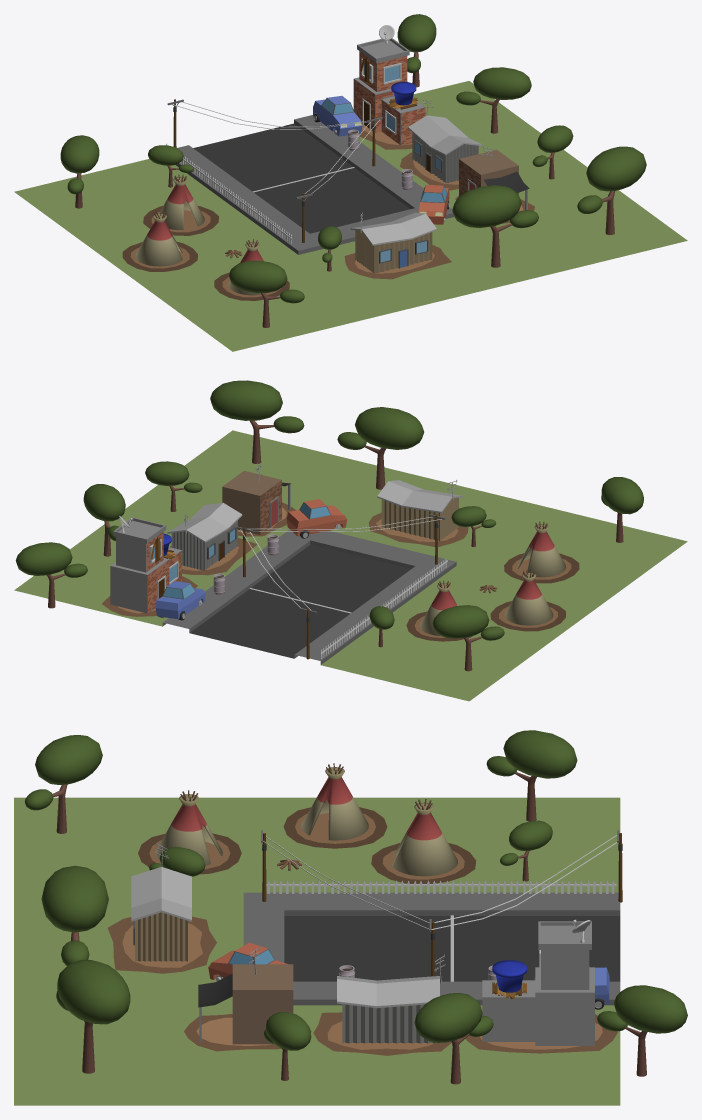
Rendered from Scenario Juego.fbx.
The picture shows the model from 3 angles, top to bottom: view 1: azimuth 30°, elevation 25°; view 2: azimuth 150°, elevation 25°; view 3: azimuth 270°, elevation 25°; orthographic projection. The views are drawn at different scales.
Parts seen in each view (by area): view 1: Plane, Cube, Cube.004, Cylinder.007, Cube.003, Cylinder.005, Plane.006, Cube.011, Plane.007, Cylinder.003, Cylinder.006, Cylinder.002 (+11 smaller); view 2: Plane, Cube, Cube.004, Cube.003, Cylinder.005, Cylinder.007, Cube.011, Plane.006, Plane.005, Cylinder.018, Cylinder.002, Cube.001 (+10 smaller); view 3: Plane, Cube, Cube.003, Cube.004, Cube.011, Plane.006, Plane.007, Cylinder.005, Cylinder.007, Cylinder.002, Cylinder.018, Plane.005 (+12 smaller).
Part boxes in pixels (bbox=[...]): Plane: bbox=[14, 81, 687, 351]; Cube: bbox=[353, 25, 425, 145]; Cube.004: bbox=[350, 212, 436, 273]; Cylinder.007: bbox=[452, 185, 538, 267]; Cube.003: bbox=[408, 98, 482, 183]; Cylinder.005: bbox=[577, 146, 646, 235]; Plane.006: bbox=[122, 211, 197, 271]; Cube.011: bbox=[459, 146, 529, 210]; Plane.007: bbox=[143, 174, 218, 235]; Cylinder.003: bbox=[229, 260, 304, 327]; Cylinder.006: bbox=[456, 67, 531, 133]; Cylinder.002: bbox=[60, 135, 99, 208]; Plane: bbox=[14, 430, 687, 701]; Cube: bbox=[110, 515, 181, 613]; Cube.004: bbox=[377, 480, 463, 541]; Cube.003: bbox=[167, 502, 242, 570]; Cylinder.005: bbox=[210, 380, 304, 463]; Cylinder.007: bbox=[337, 407, 424, 489]; Cube.011: bbox=[222, 463, 290, 534]; Plane.006: bbox=[490, 570, 565, 631]; Plane.005: bbox=[504, 521, 579, 583]; Cylinder.018: bbox=[15, 542, 87, 608]; Cylinder.002: bbox=[432, 605, 504, 671]; Cube.001: bbox=[286, 499, 347, 538]; Plane: bbox=[14, 797, 620, 1105]; Cube: bbox=[482, 919, 594, 1045]; Cube.003: bbox=[337, 954, 445, 1043]; Cube.004: bbox=[131, 842, 191, 961]; Cube.011: bbox=[198, 946, 293, 1044]; Plane.006: bbox=[283, 763, 387, 848]; Plane.007: bbox=[371, 799, 475, 883]; Cylinder.005: bbox=[56, 960, 130, 1073]; Cylinder.007: bbox=[41, 865, 108, 965]; Cylinder.002: bbox=[486, 730, 577, 821]; Cylinder.018: bbox=[597, 985, 687, 1076]; Plane.005: bbox=[138, 790, 241, 874].
Size of the model in its own units: 51.83 by 9.63 by 47.92.
